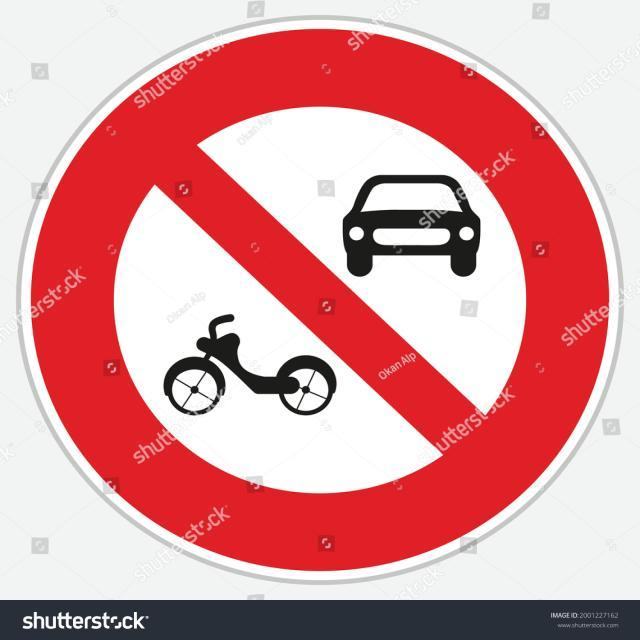all motor vehicle prohibited: (18, 11, 618, 588)
